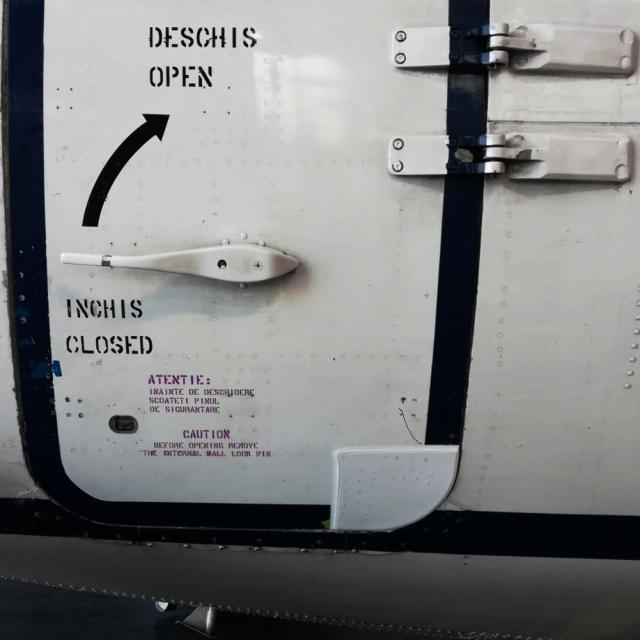crack: (396, 393, 426, 448)
